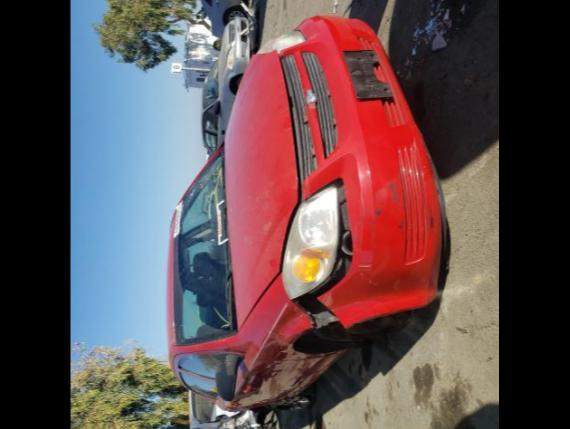Broken part: (239, 48, 306, 328), (286, 174, 356, 328)
Missing part: (344, 48, 390, 94)
Paint chip: (370, 204, 386, 222), (428, 198, 436, 228), (392, 214, 406, 228), (390, 186, 400, 202), (388, 182, 400, 194)
